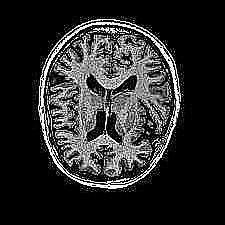Normal_Brain: (2, 1, 225, 225)
